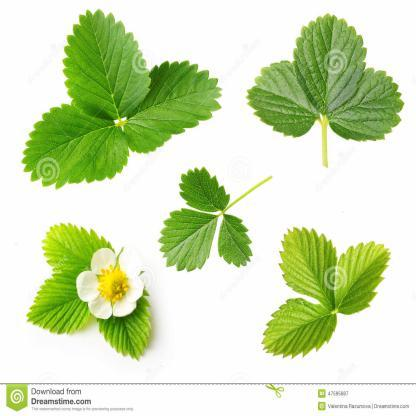Strawberry leaf: (122, 50, 230, 158), (16, 92, 132, 190), (61, 3, 152, 121), (293, 13, 366, 116), (318, 61, 410, 139), (244, 58, 326, 140), (252, 294, 341, 362), (24, 266, 104, 336), (276, 230, 344, 309), (328, 239, 393, 317), (156, 204, 230, 272), (91, 284, 155, 361), (40, 223, 121, 280), (176, 164, 228, 216), (214, 212, 257, 272)
